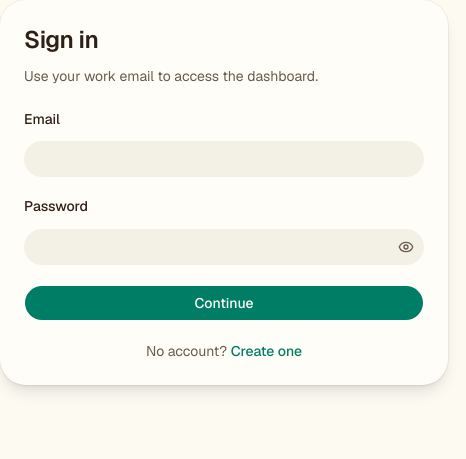
Test: LoginForm › shows validation errors when submitting empty fields
This screenshot has width=466, height=459.
Click the button "Continue" at (224, 302), box [24,284,424,320]
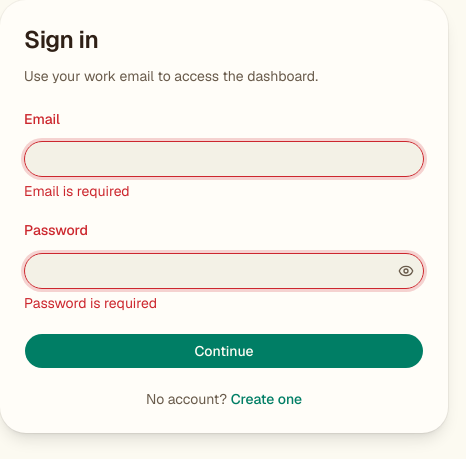
expect the text "Email is required" is shown: met, box [24,182,130,200]
expect the text "Password is required" is shown: met, box [24,294,157,312]
